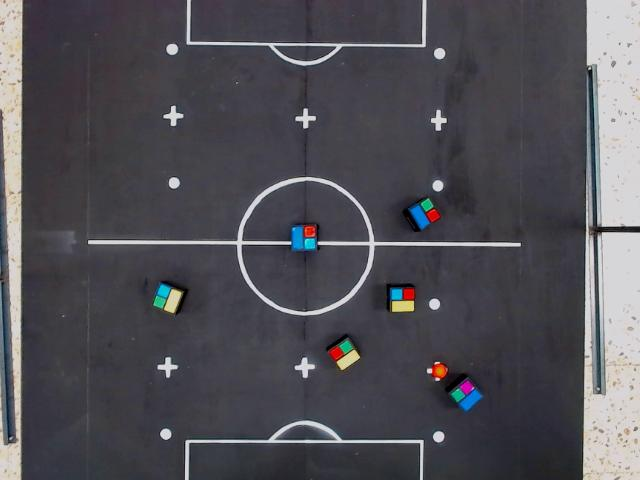robot: (446, 376, 487, 415), (406, 196, 444, 233), (324, 337, 363, 373), (150, 280, 184, 317), (385, 284, 419, 316), (289, 222, 321, 254)
